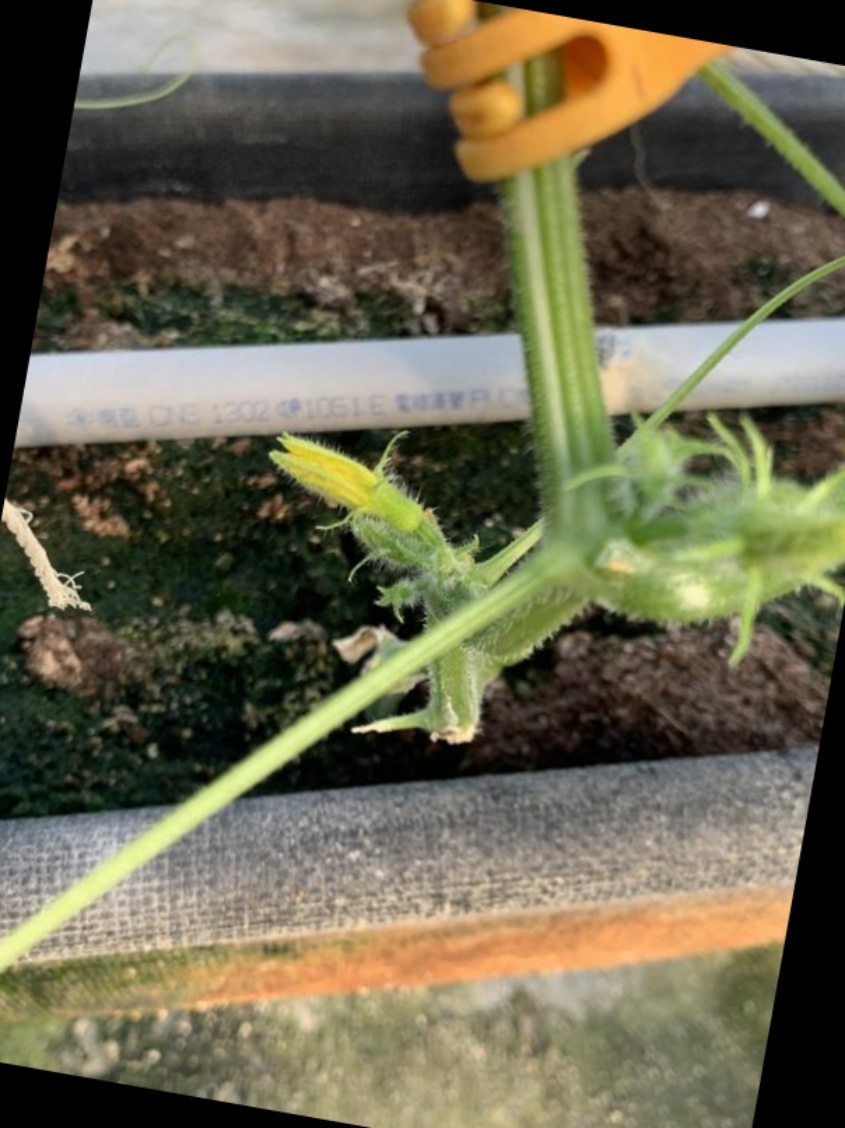bud: (266, 429, 422, 532)
